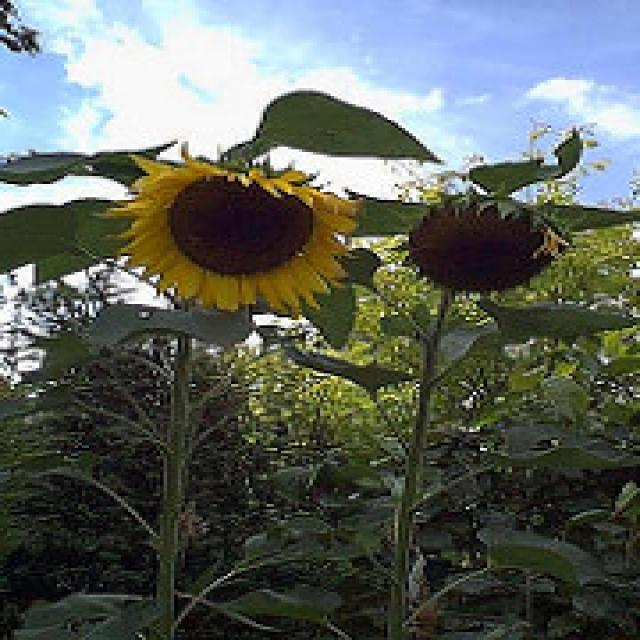sunflower: (105, 148, 371, 324), (391, 184, 576, 307)
